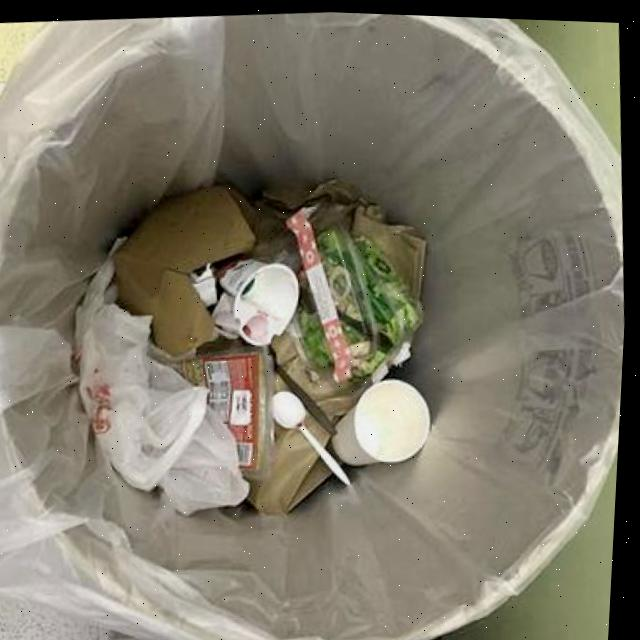Foam cups and plates: (337, 376, 432, 460), (216, 258, 300, 341)
Garbage: (78, 176, 435, 512)
Plastic: (276, 387, 355, 481), (274, 342, 340, 431)
Plastic_Bag: (79, 250, 254, 512)
Plastic_Container: (316, 219, 425, 378), (182, 346, 278, 470), (279, 231, 336, 366)
